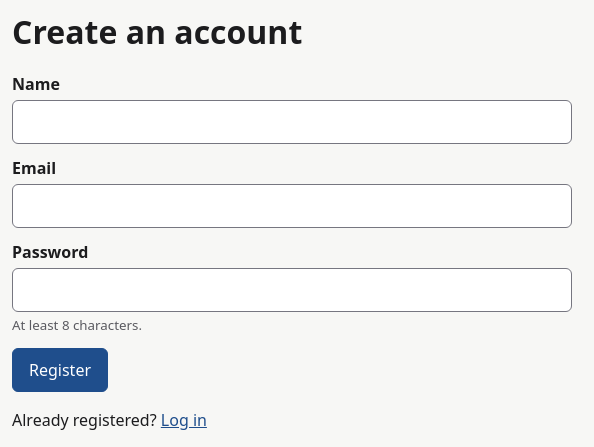
Test: register form (FR-01, UC-04) › shows the check-your-email message after a successful registration
Type "Asha" into the field labelled "Name".
click(292, 122); type("Asha")  # box [12,100,572,144]
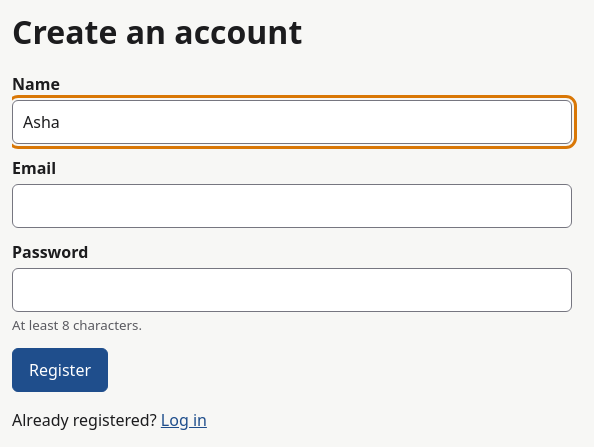
Type "asha@example.com" into the field labelled "Email".
click(292, 206); type("asha@example.com")  # box [12,184,572,228]
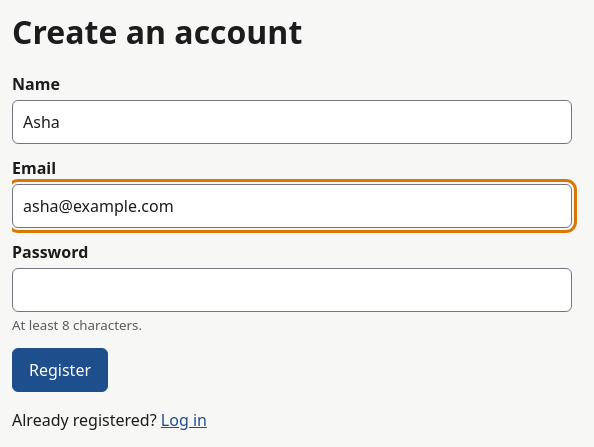
Type "LongEnough1" into the password field labelled "Password".
click(292, 290); type("LongEnough1")  # box [12,268,572,312]
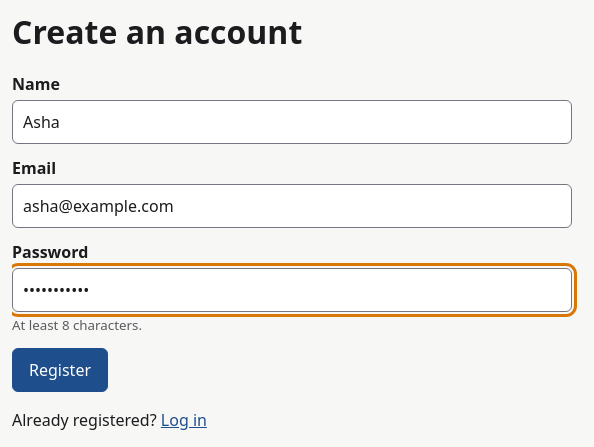
Click the button "Register".
click(60, 370)  # box [12,348,108,392]
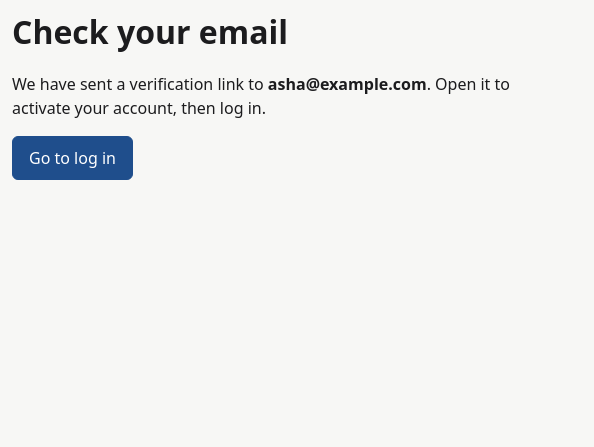
Expected: the heading "Check your email" is shown, [12,10,288,53]
